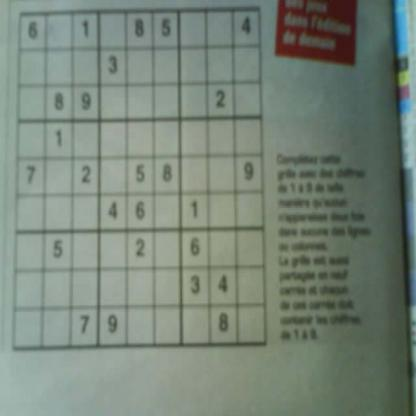sudoku: (6, 2, 270, 356)
